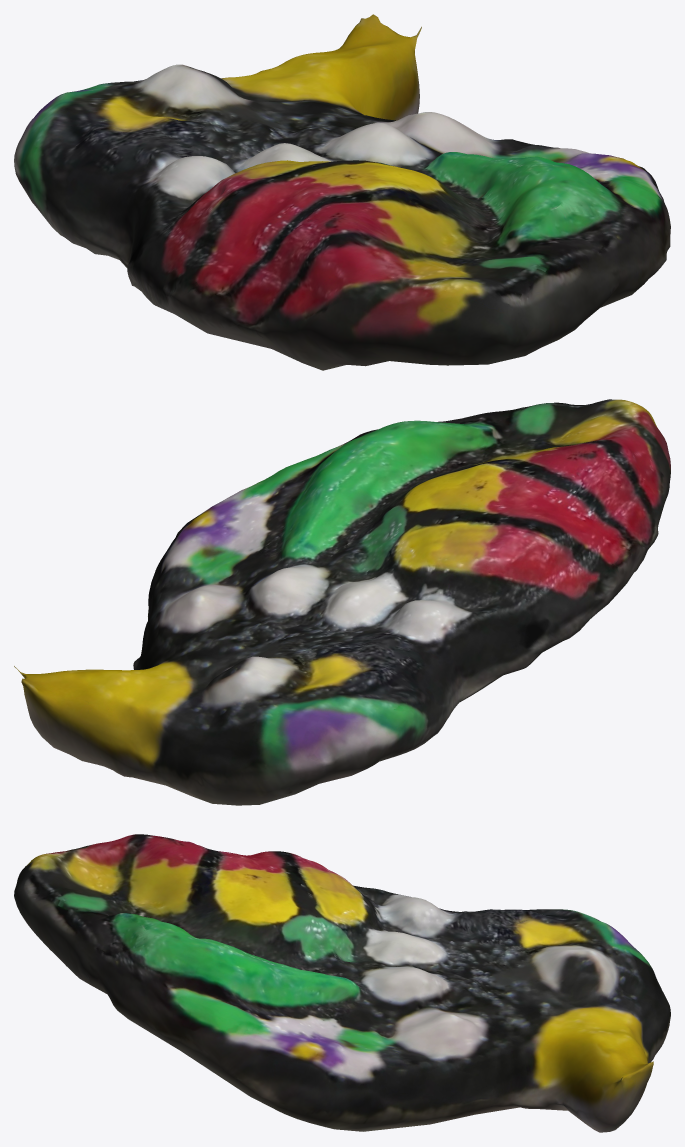
The picture shows the model from 3 angles, top to bottom: view 1: azimuth 30°, elevation 25°; view 2: azimuth 150°, elevation 25°; view 3: azimuth 270°, elevation 25°; orthographic projection. The views are drawn at different scales.
Size of the model in its own units: 0.3802 by 0.1683 by 0.576.
1 material, 1 textured.
